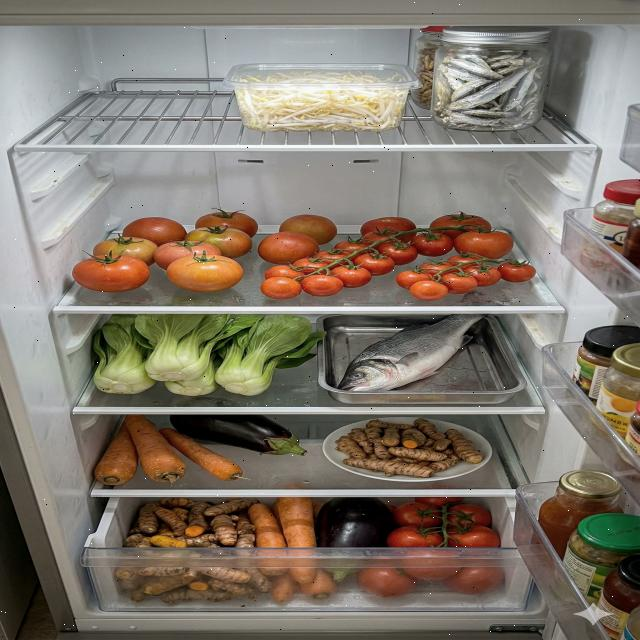anchovies: (434, 50, 544, 126)
bean_sprouts: (236, 71, 406, 131)
carrot: (94, 414, 244, 486), (248, 498, 336, 604)
eggplant: (316, 497, 392, 582), (169, 414, 308, 456)
fish: (338, 314, 490, 392)
pakchoy: (91, 314, 327, 396)
tomato: (258, 211, 536, 301), (72, 208, 258, 293), (356, 496, 506, 598)
turmeric: (115, 498, 272, 606), (334, 418, 484, 478)
